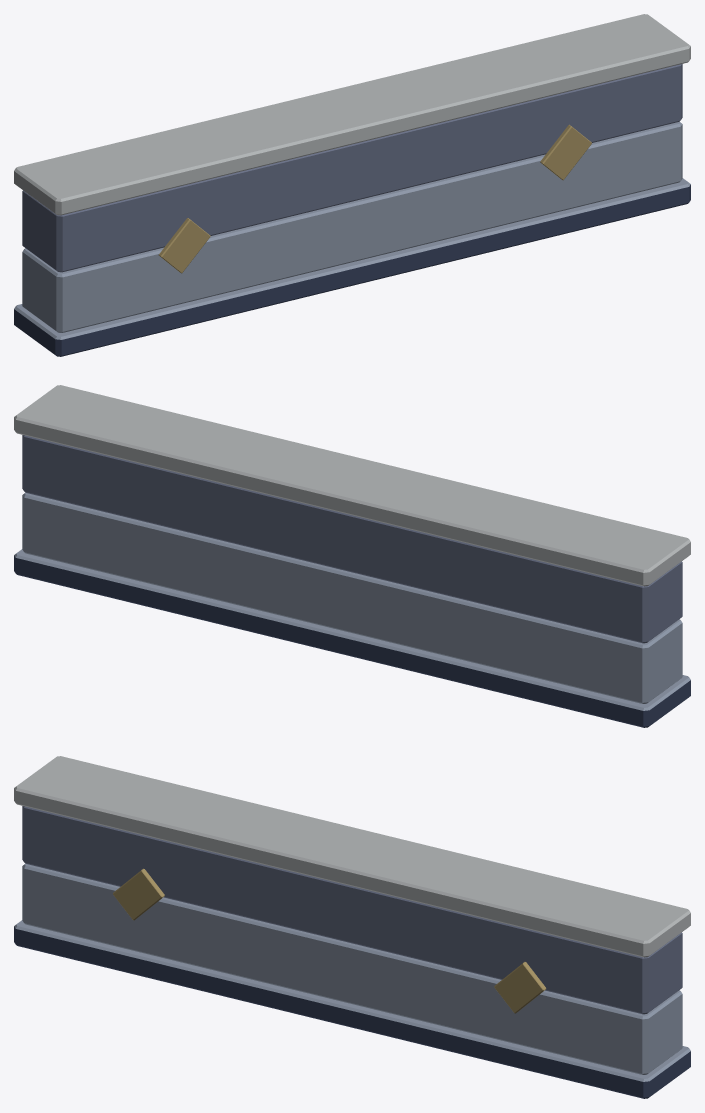
File: wall-long.glb
The picture shows the model from 3 angles, top to bottom: view 1: azimuth 30°, elevation 25°; view 2: azimuth 150°, elevation 25°; view 3: azimuth 330°, elevation 25°; orthographic projection.
Parts seen in each view (by area): view 1: wall-long__body; view 2: wall-long__body; view 3: wall-long__body.
Part boxes in pixels (x1,y1,x2,y2): wall-long__body: [14, 14, 690, 356]; wall-long__body: [14, 385, 690, 727]; wall-long__body: [14, 756, 690, 1098].
Size of the model in its own units: 4 by 0.95 by 0.5175.
